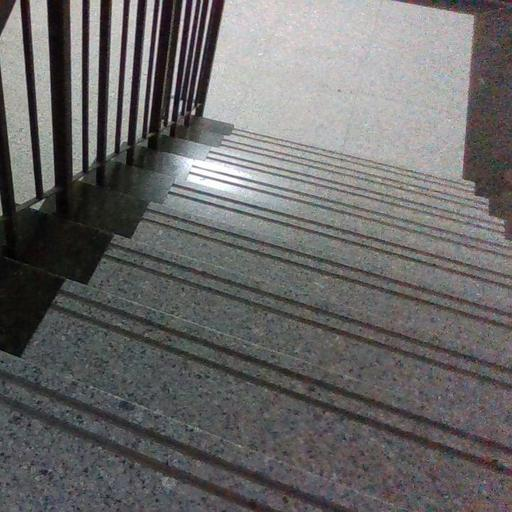stairs: (0, 119, 511, 510)
